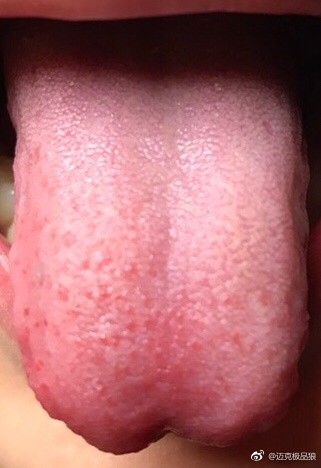baitaishe: (7, 37, 310, 454)
hongdianshe: (21, 307, 31, 318), (42, 315, 51, 327)
hongshe: (7, 37, 310, 454)
xinfeiao: (98, 414, 231, 455)
